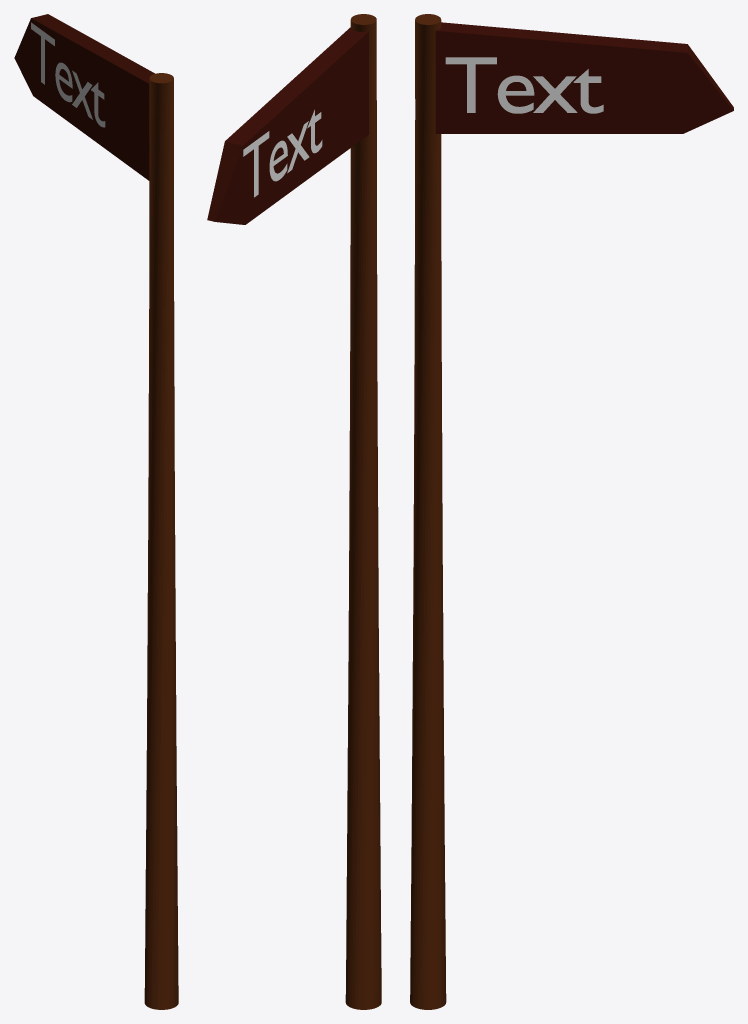
The model's file is Waypoint.fbx.
3 renders of one model, left to right at view 1: azimuth 30°, elevation 25°; view 2: azimuth 150°, elevation 25°; view 3: azimuth 270°, elevation 25°, orthographic. The views are drawn at different scales.
Visible parts, largest first — view 1: Cylinder, Arrow, Text.001; view 2: Cylinder, Arrow, Text.001; view 3: Cylinder, Arrow, Text.
Part boxes in pixels (bbox=[...]): Cylinder: bbox=[144, 73, 178, 1009]; Arrow: bbox=[14, 14, 154, 180]; Text.001: bbox=[31, 22, 105, 127]; Cylinder: bbox=[345, 14, 381, 1009]; Arrow: bbox=[207, 27, 368, 224]; Text.001: bbox=[243, 109, 322, 197]; Cylinder: bbox=[410, 14, 446, 1009]; Arrow: bbox=[435, 22, 733, 133]; Text: bbox=[445, 57, 603, 113].
Bounding box in the file's own units: 20 × 600 × 179.
